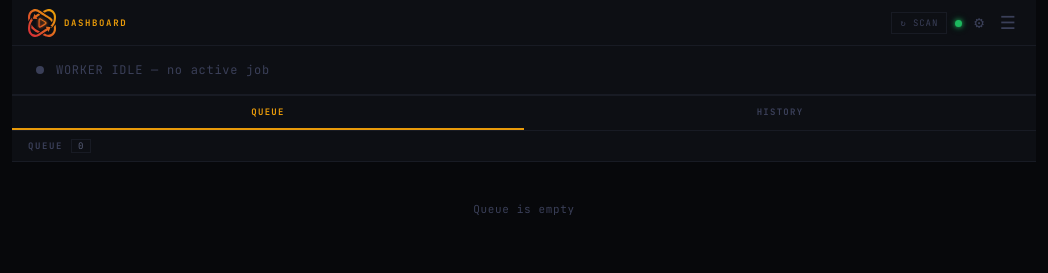
Scenario: App — the dashboard's Queue and History switch on a phone › swaps to the History panel when its tab is chosen, and back
Expected: the text "Queue is empty" is shown, [473,202,575,216]
Step 1. Click the button "HISTORY" → x=780, y=113, box [524,96,1036,130]
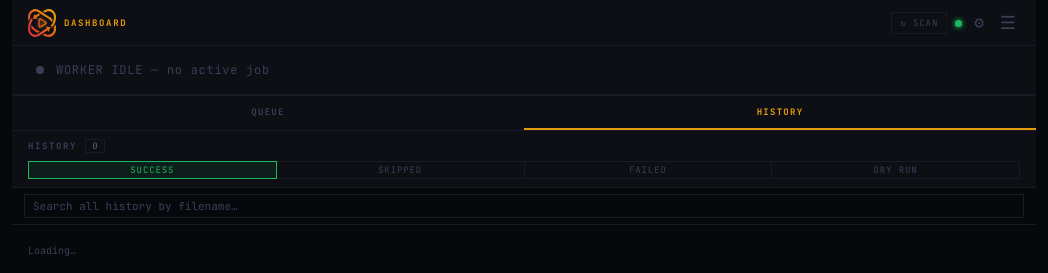
Expected: the field with placeholder "Search all history by filename…" is shown, [24,194,1024,218]
Expected: the text "Queue is empty" is gone
Step 2. Click the button "QUEUE" → x=268, y=113, box [12,96,524,130]
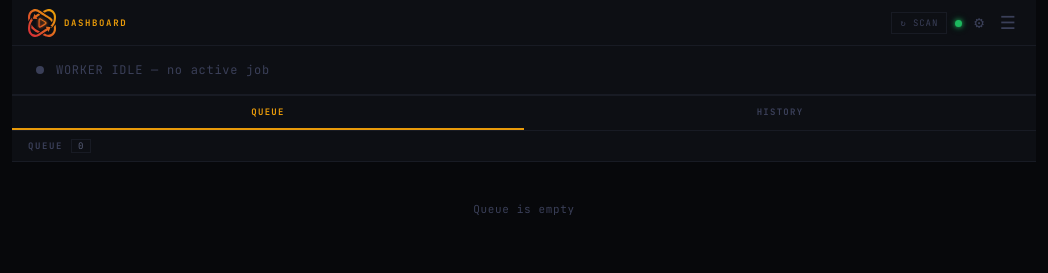
Expected: the field with placeholder "Search all history by filename…" is not shown
Expected: the text "Queue is empty" is shown, [473,202,575,216]
